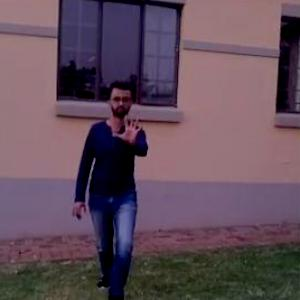follow_hand: (112, 107, 149, 148)
